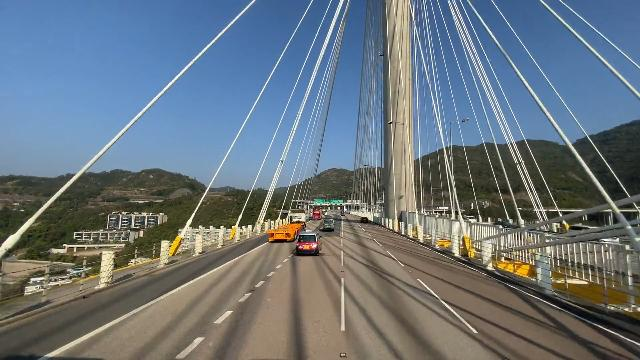bus: (313, 207, 321, 220)
car: (293, 228, 323, 257), (318, 215, 336, 234), (360, 217, 369, 224)
truck: (266, 209, 311, 243)
